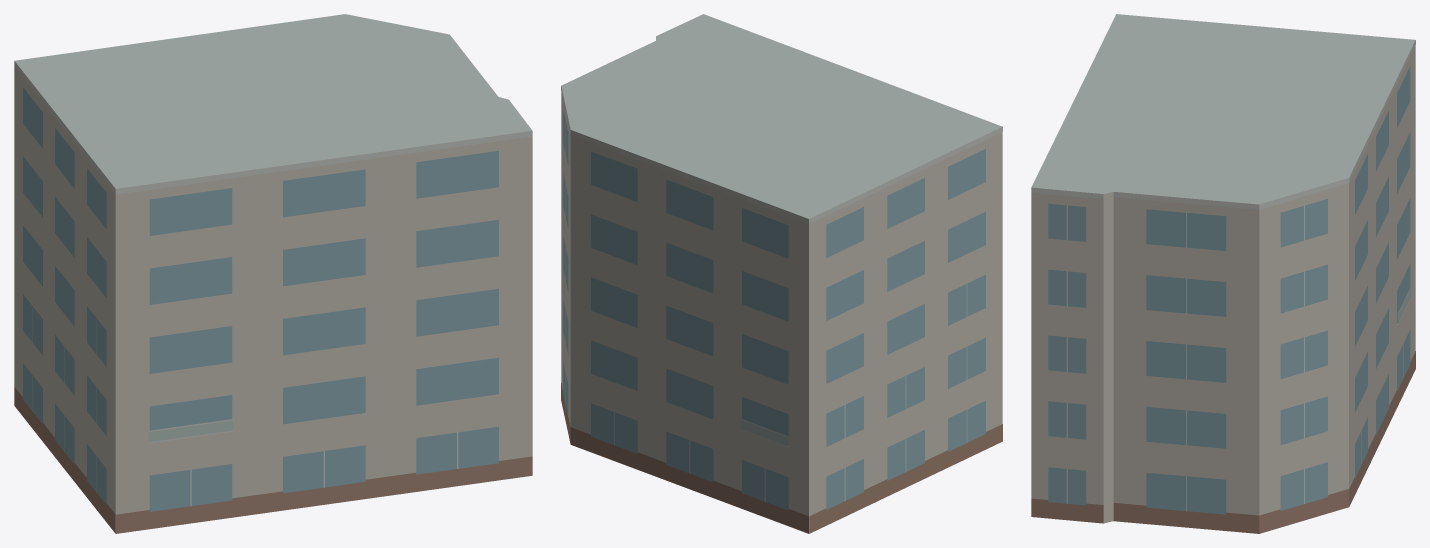
Rendered from survey-upis-32885386.glb.
The picture shows the model from 3 angles, left to right: view 1: azimuth 30°, elevation 25°; view 2: azimuth 150°, elevation 25°; view 3: azimuth 270°, elevation 25°; orthographic projection. The views are drawn at different scales.
Visible parts, largest first — view 1: survey-upis-32885386.tmp; view 2: survey-upis-32885386.tmp; view 3: survey-upis-32885386.tmp.
Part boxes in pixels (box(x1,y1,x2,y2)): survey-upis-32885386.tmp: box(14, 14, 532, 533); survey-upis-32885386.tmp: box(561, 14, 1002, 533); survey-upis-32885386.tmp: box(1031, 14, 1415, 533).
Size of the model in its own units: 18.68 by 15.05 by 15.93.
